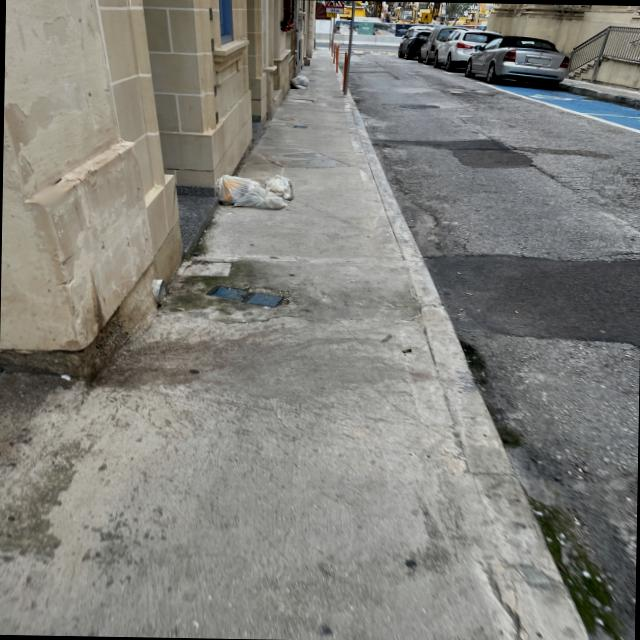white_bag: (213, 172, 262, 206), (236, 186, 288, 210), (264, 172, 296, 200)
